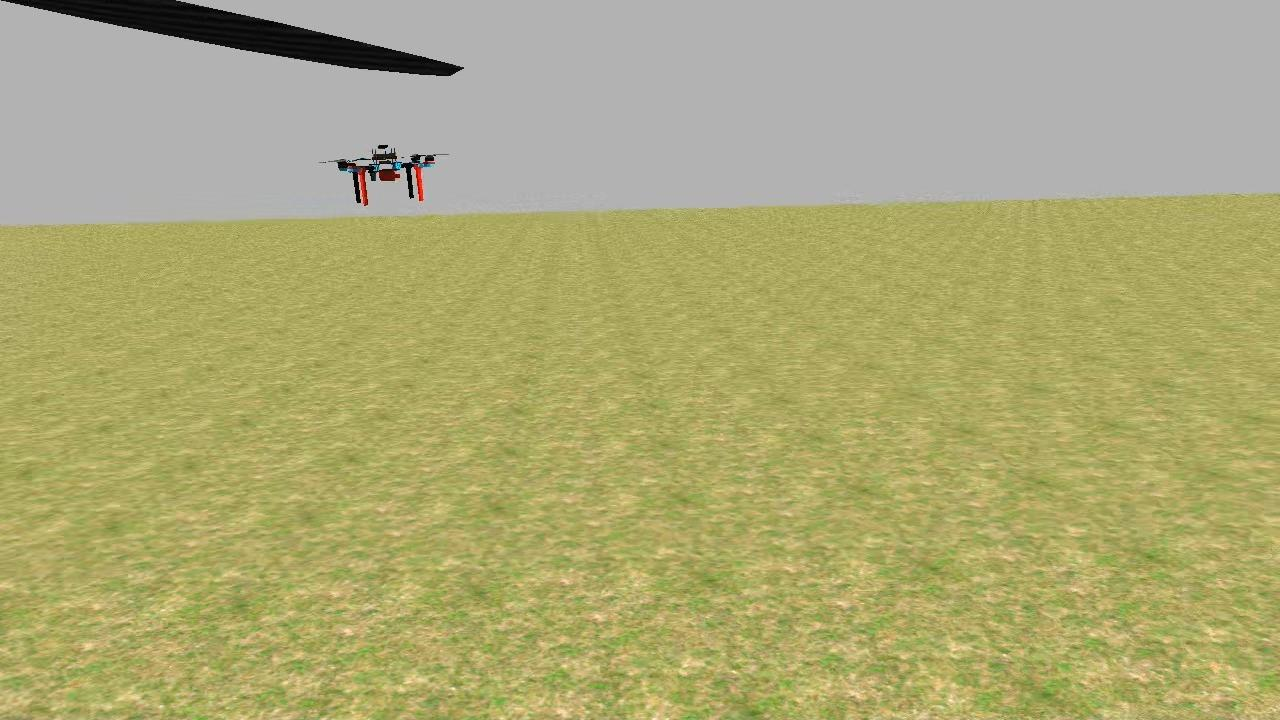UAV: (334, 140, 440, 210)
